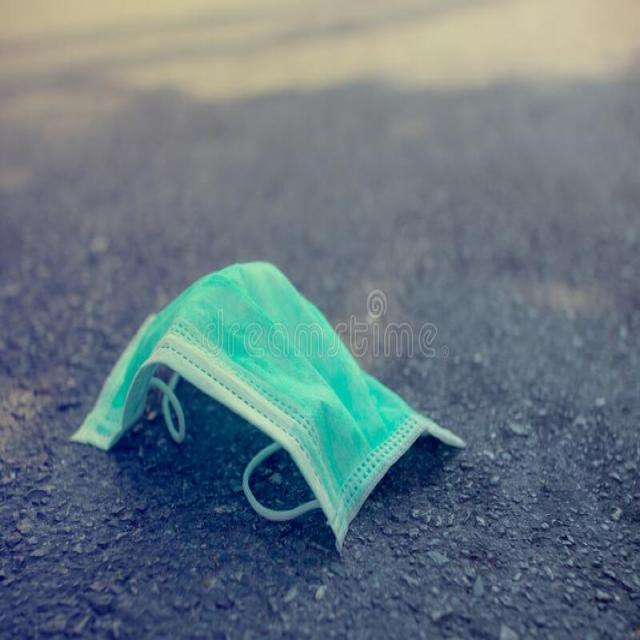non-organic waste: (66, 251, 468, 557)
